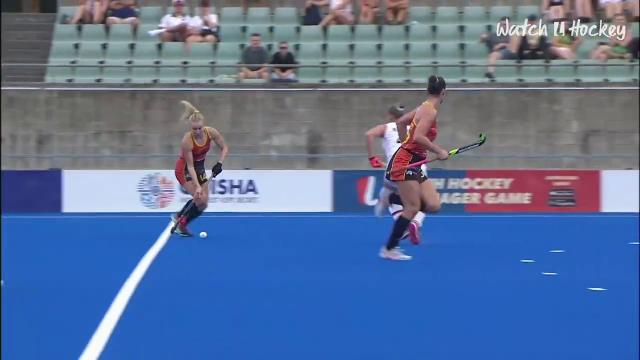ball: (195, 226, 214, 245)
